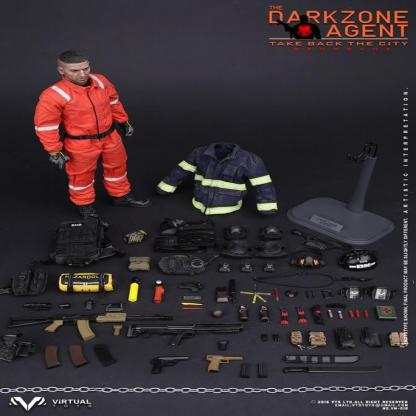Grenade: (257, 303, 273, 325), (236, 304, 252, 324)
Gun: (5, 311, 174, 341), (127, 323, 244, 348)
Pistol: (150, 354, 190, 376), (204, 354, 244, 374)
